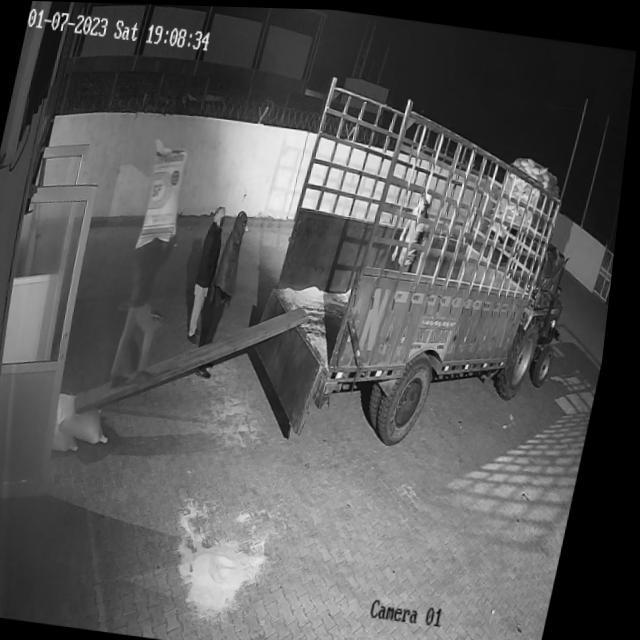sack: (139, 137, 198, 251), (60, 392, 124, 443)
